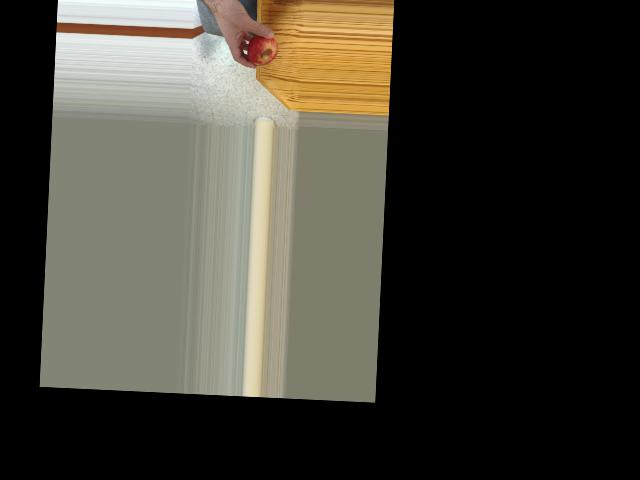apple: (245, 30, 279, 68)
